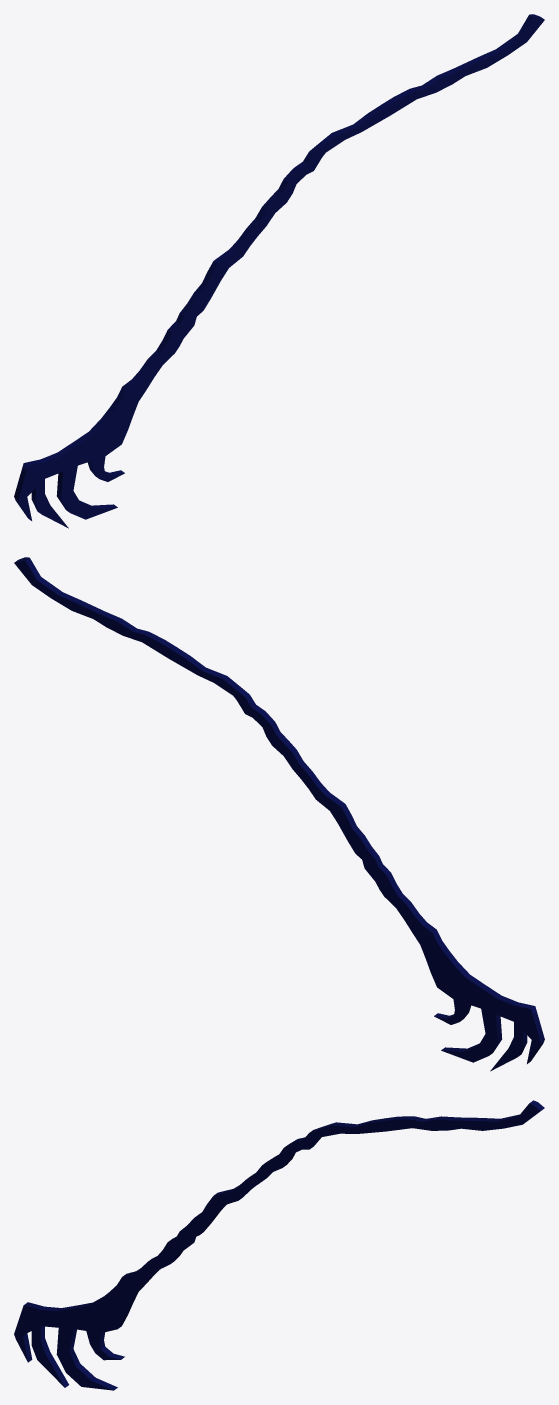
The model's file is Magic.fbx.
3 views of the same model, one above another, from view 1: azimuth 30°, elevation 25°; view 2: azimuth 150°, elevation 25°; view 3: azimuth 330°, elevation 25° (orthographic).
Visible parts, largest first — view 1: Magic; view 2: Magic; view 3: Magic.
Boxes of the visible parts, x1,y1,x2,y2 form: Magic: (14,14,544,528); Magic: (14,557,544,1071); Magic: (14,1100,544,1390).
Bounding box in the file's own units: 35.06 × 25.31 × 0.5034.
